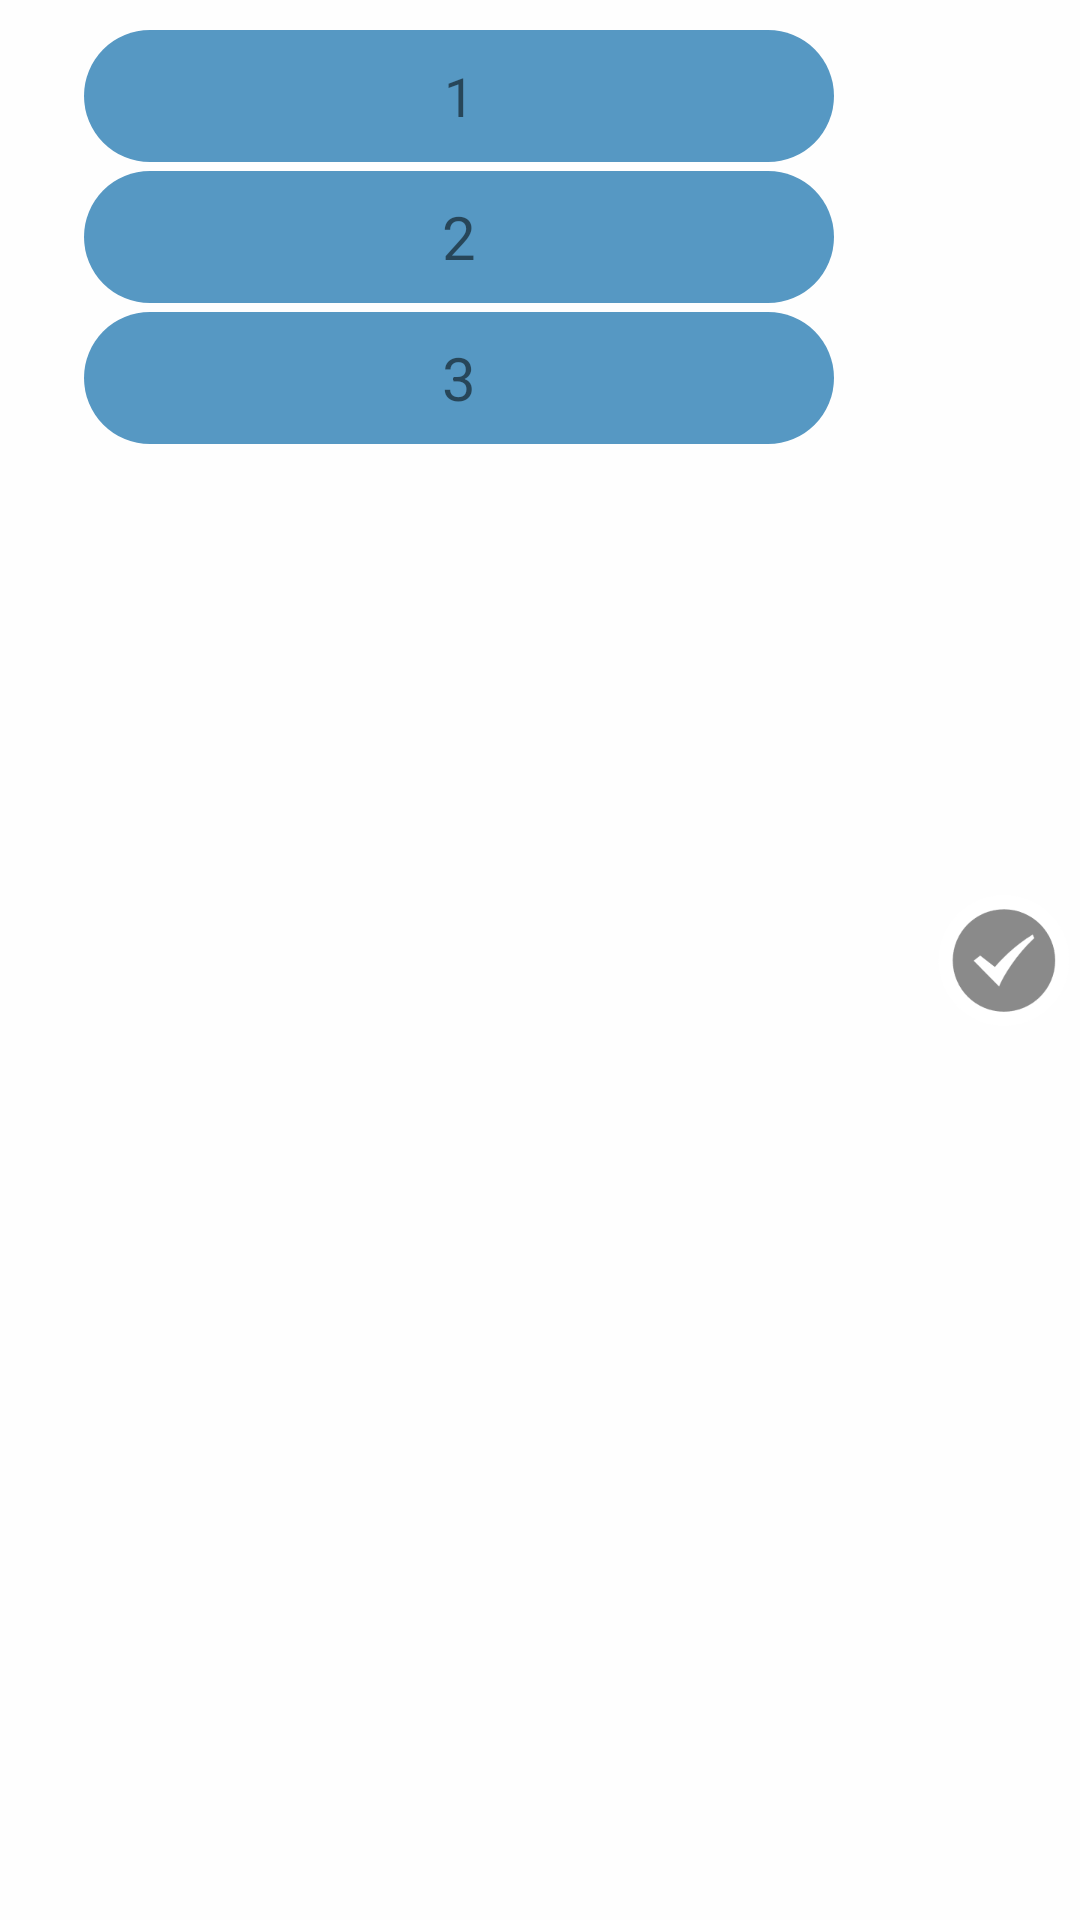

Where to tap for icons on this 1080x1920 app screen, as point (x, y):
check: point (1003, 960)
